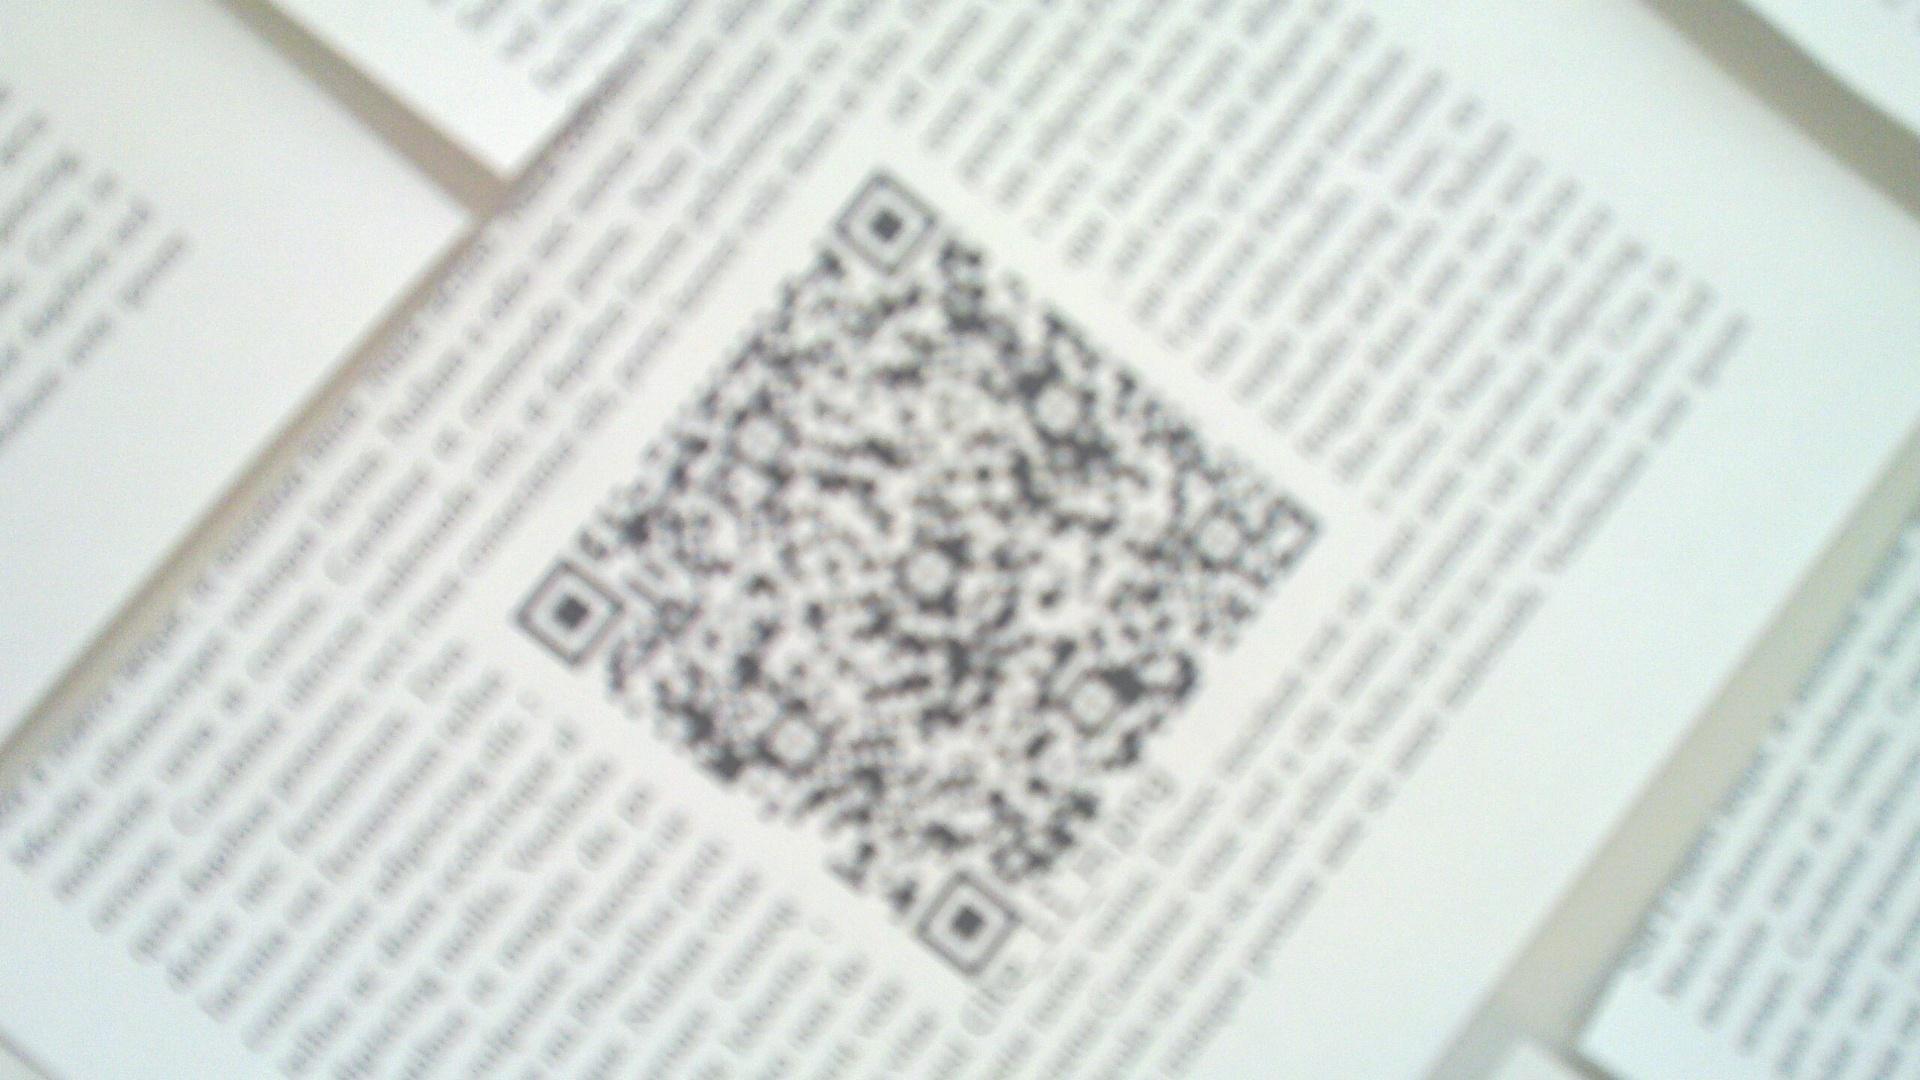Finder pattern: (506, 559, 629, 674), (827, 169, 944, 278), (907, 876, 1027, 975)
